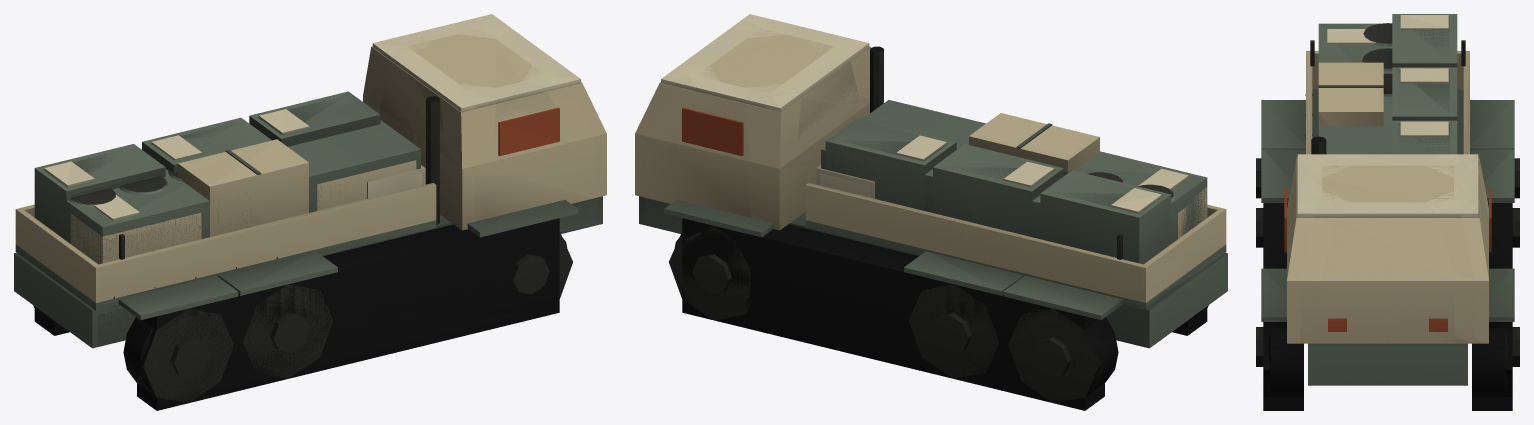
The model's file is neutral_supply_truck.glb.
The picture shows the model from 3 angles, left to right: view 1: azimuth 30°, elevation 25°; view 2: azimuth 150°, elevation 25°; view 3: azimuth 270°, elevation 25°; orthographic projection.
Parts seen in each view (by area): view 1: hull (×3); view 2: hull (×3); view 3: hull (×3).
Boxes of the visible parts, bbox=[...] form: hull (×3): bbox=[14, 14, 606, 410]; hull (×3): bbox=[635, 14, 1227, 410]; hull (×3): bbox=[1256, 14, 1519, 410].
Bounding box in the file's own units: 5.64 × 2.3 × 2.48.
